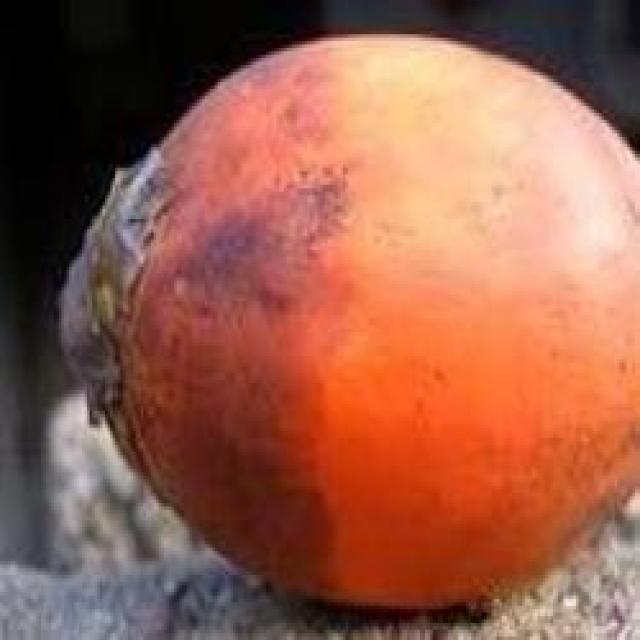good: (56, 34, 637, 623)
